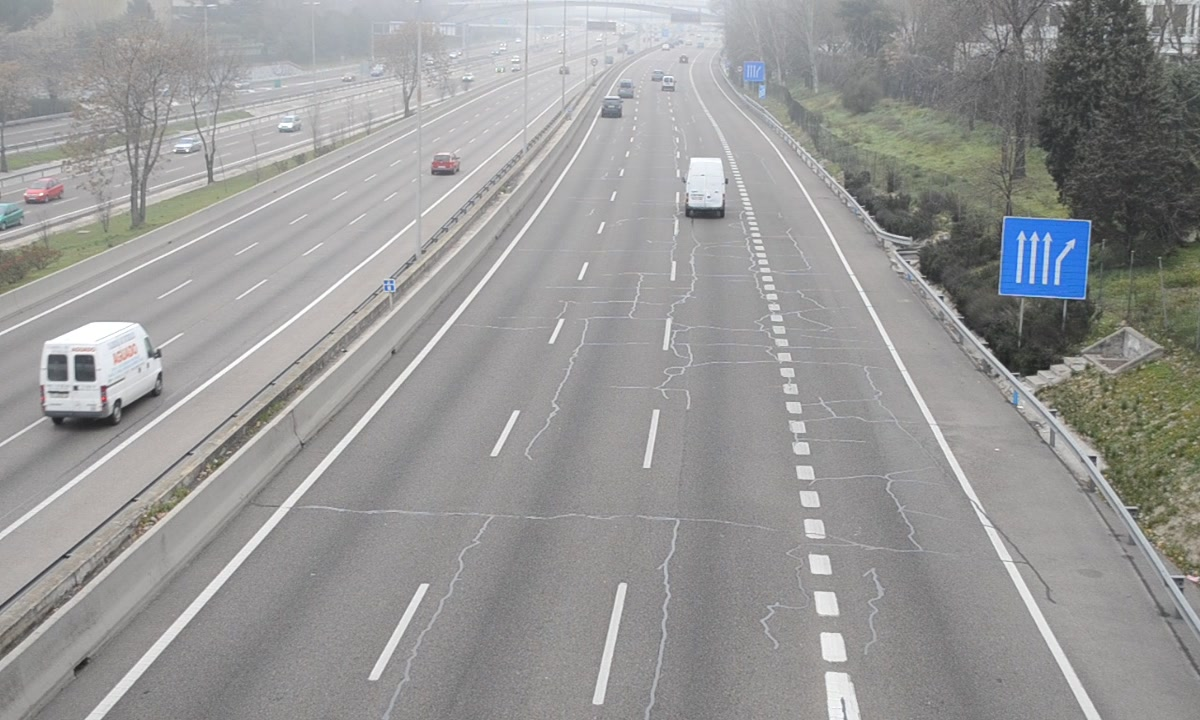car: (601, 95, 623, 117)
van: (683, 156, 729, 212)
